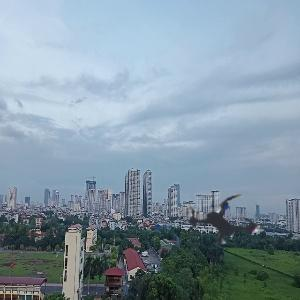drone: (154, 155, 291, 292)
